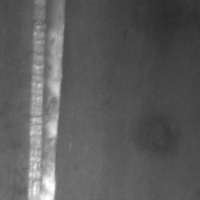scratches: (24, 0, 70, 198)
